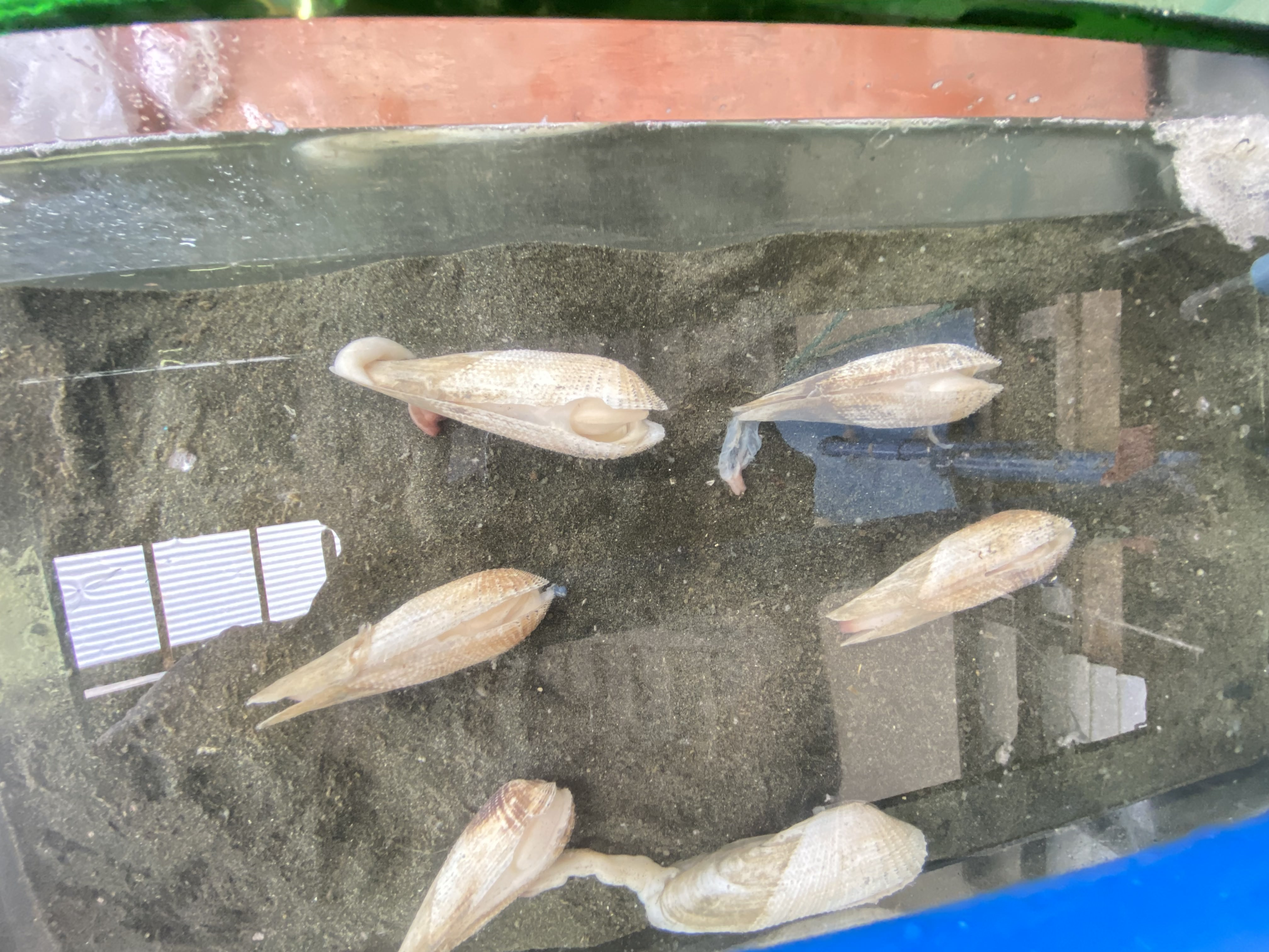At risk: (400, 779, 926, 952), (246, 568, 562, 729), (719, 343, 1001, 495), (331, 337, 667, 459), (826, 511, 1075, 644)
